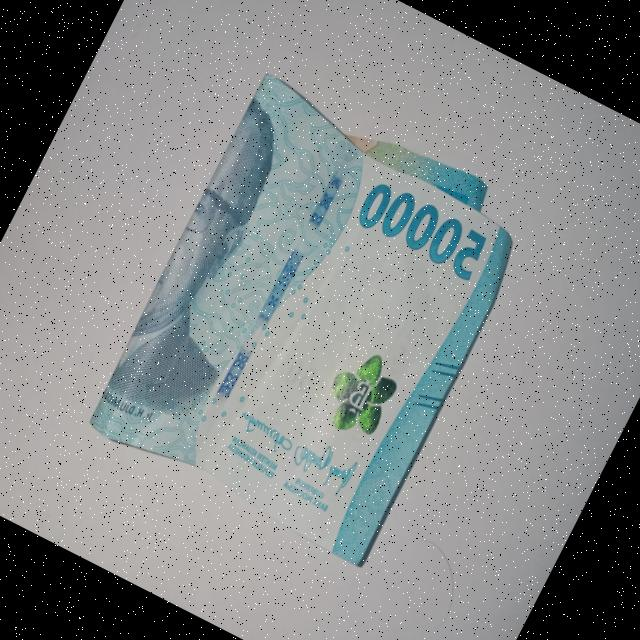50K: (69, 54, 557, 586)
